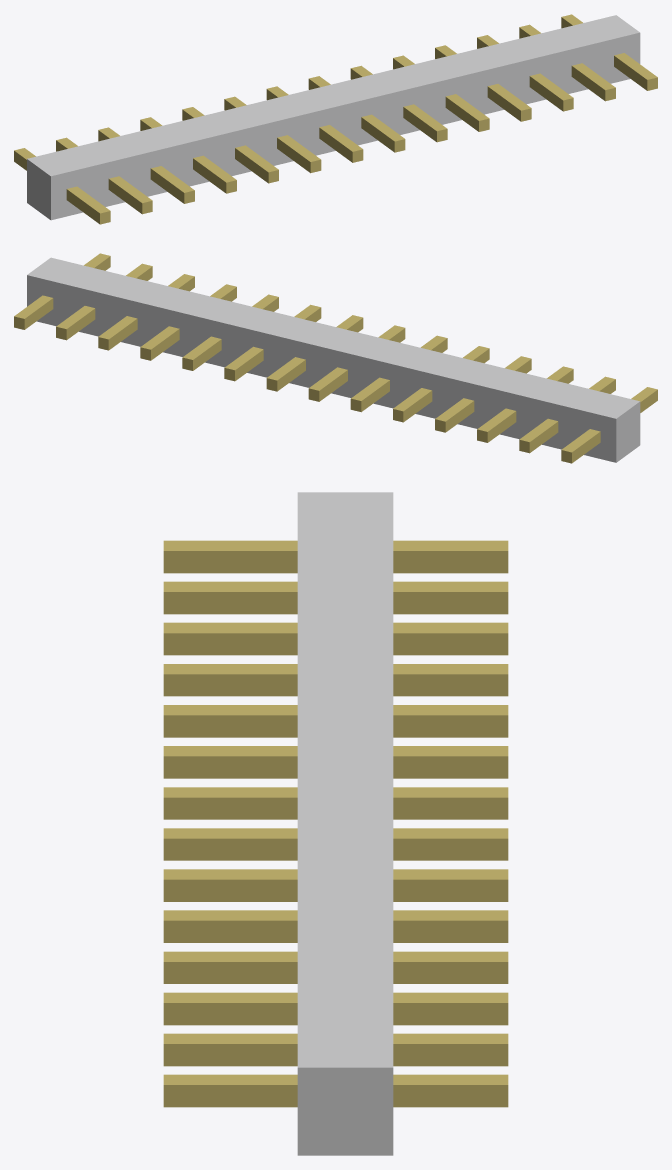
The model's file is pin_header_254_14pin.glb.
3 renders of one model, top to bottom at view 1: azimuth 30°, elevation 25°; view 2: azimuth 150°, elevation 25°; view 3: azimuth 270°, elevation 25°, orthographic. The views are drawn at different scales.
Visible parts, largest first — view 1: housing, pins; view 2: housing, pins; view 3: pins, housing.
Part boxes in pixels (box(x1,y1,x2,y2)): housing: box(27, 15, 640, 220); pins: box(14, 14, 657, 224); housing: box(27, 257, 640, 462); pins: box(14, 253, 657, 463); pins: box(163, 540, 508, 1107); housing: box(297, 492, 393, 1155).
Bounding box in the file's own units: 35.56 × 2.54 × 9.
